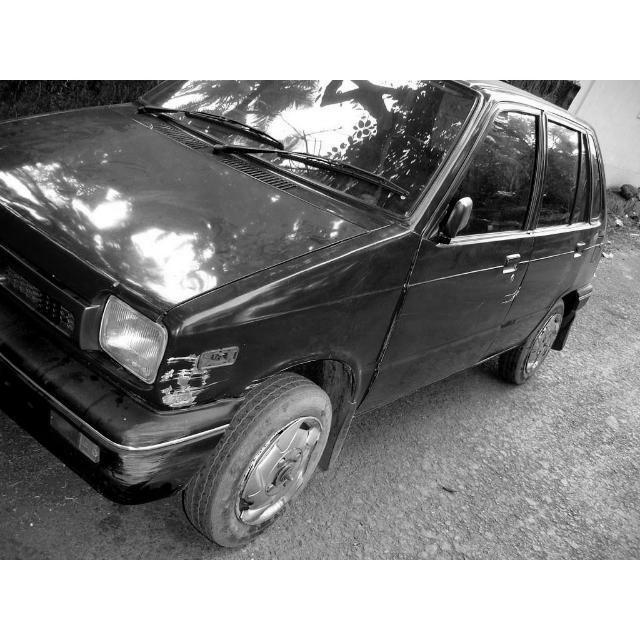front-bumper-dent: (154, 308, 387, 421)
